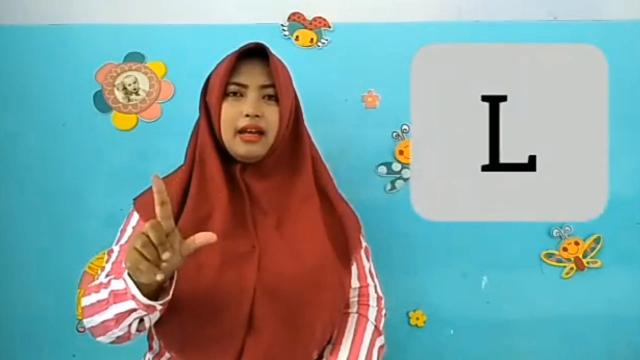L: (119, 173, 223, 297)
